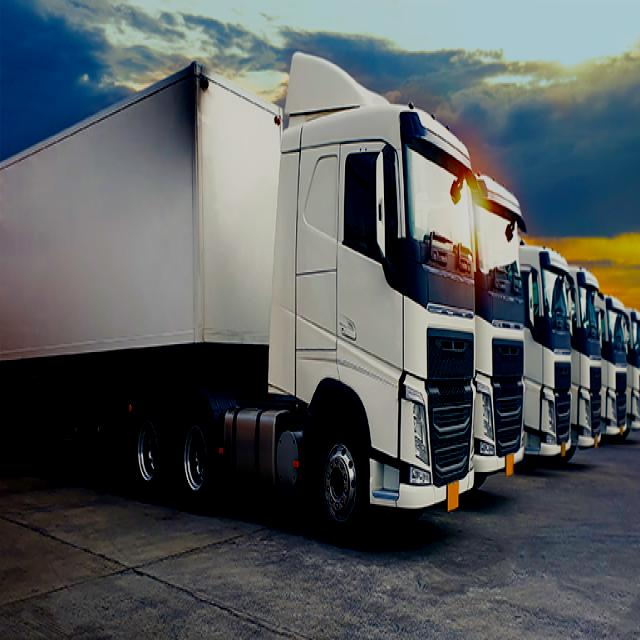TRUCK: (5, 62, 475, 548)
